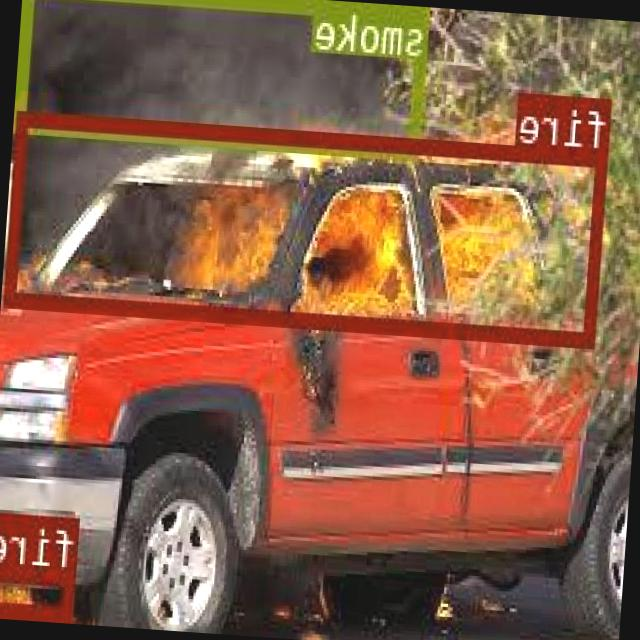fire: (6, 108, 609, 346), (0, 564, 77, 617)
smoke: (18, 0, 430, 154)
